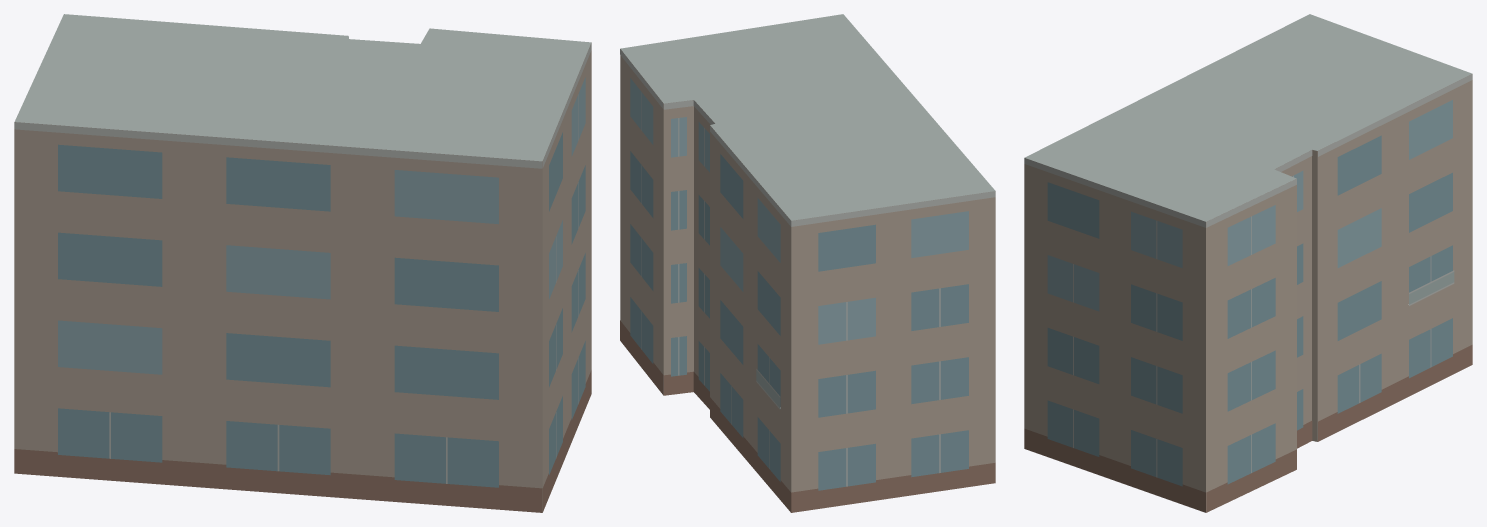
The model's file is survey-upis-32786567.glb.
The picture shows the model from 3 angles, left to right: view 1: azimuth 30°, elevation 25°; view 2: azimuth 150°, elevation 25°; view 3: azimuth 270°, elevation 25°; orthographic projection. The views are drawn at different scales.
Visible parts, largest first — view 1: survey-upis-32786567.tmp; view 2: survey-upis-32786567.tmp; view 3: survey-upis-32786567.tmp.
Part boxes in pixels (<box>): survey-upis-32786567.tmp: <box>14,14,591,512</box>; survey-upis-32786567.tmp: <box>620,14,995,512</box>; survey-upis-32786567.tmp: <box>1024,14,1472,512</box>.
Bounding box in the file's own units: 17.78 × 11.6 × 16.2.
